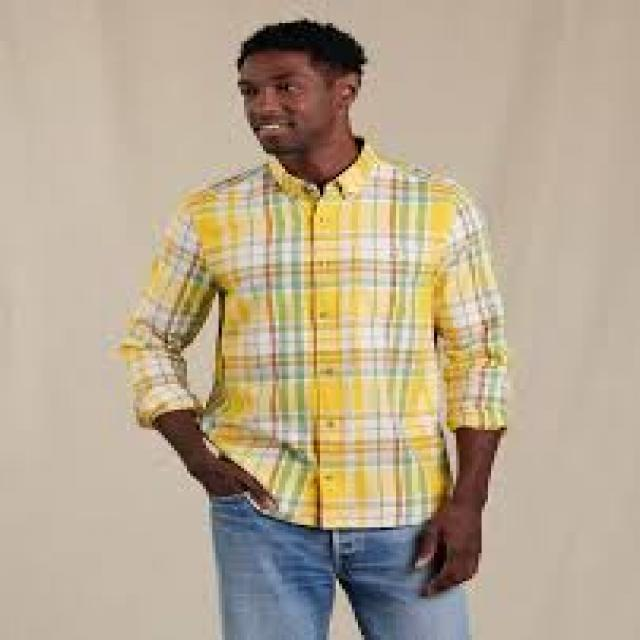plaid: (117, 152, 515, 534)
